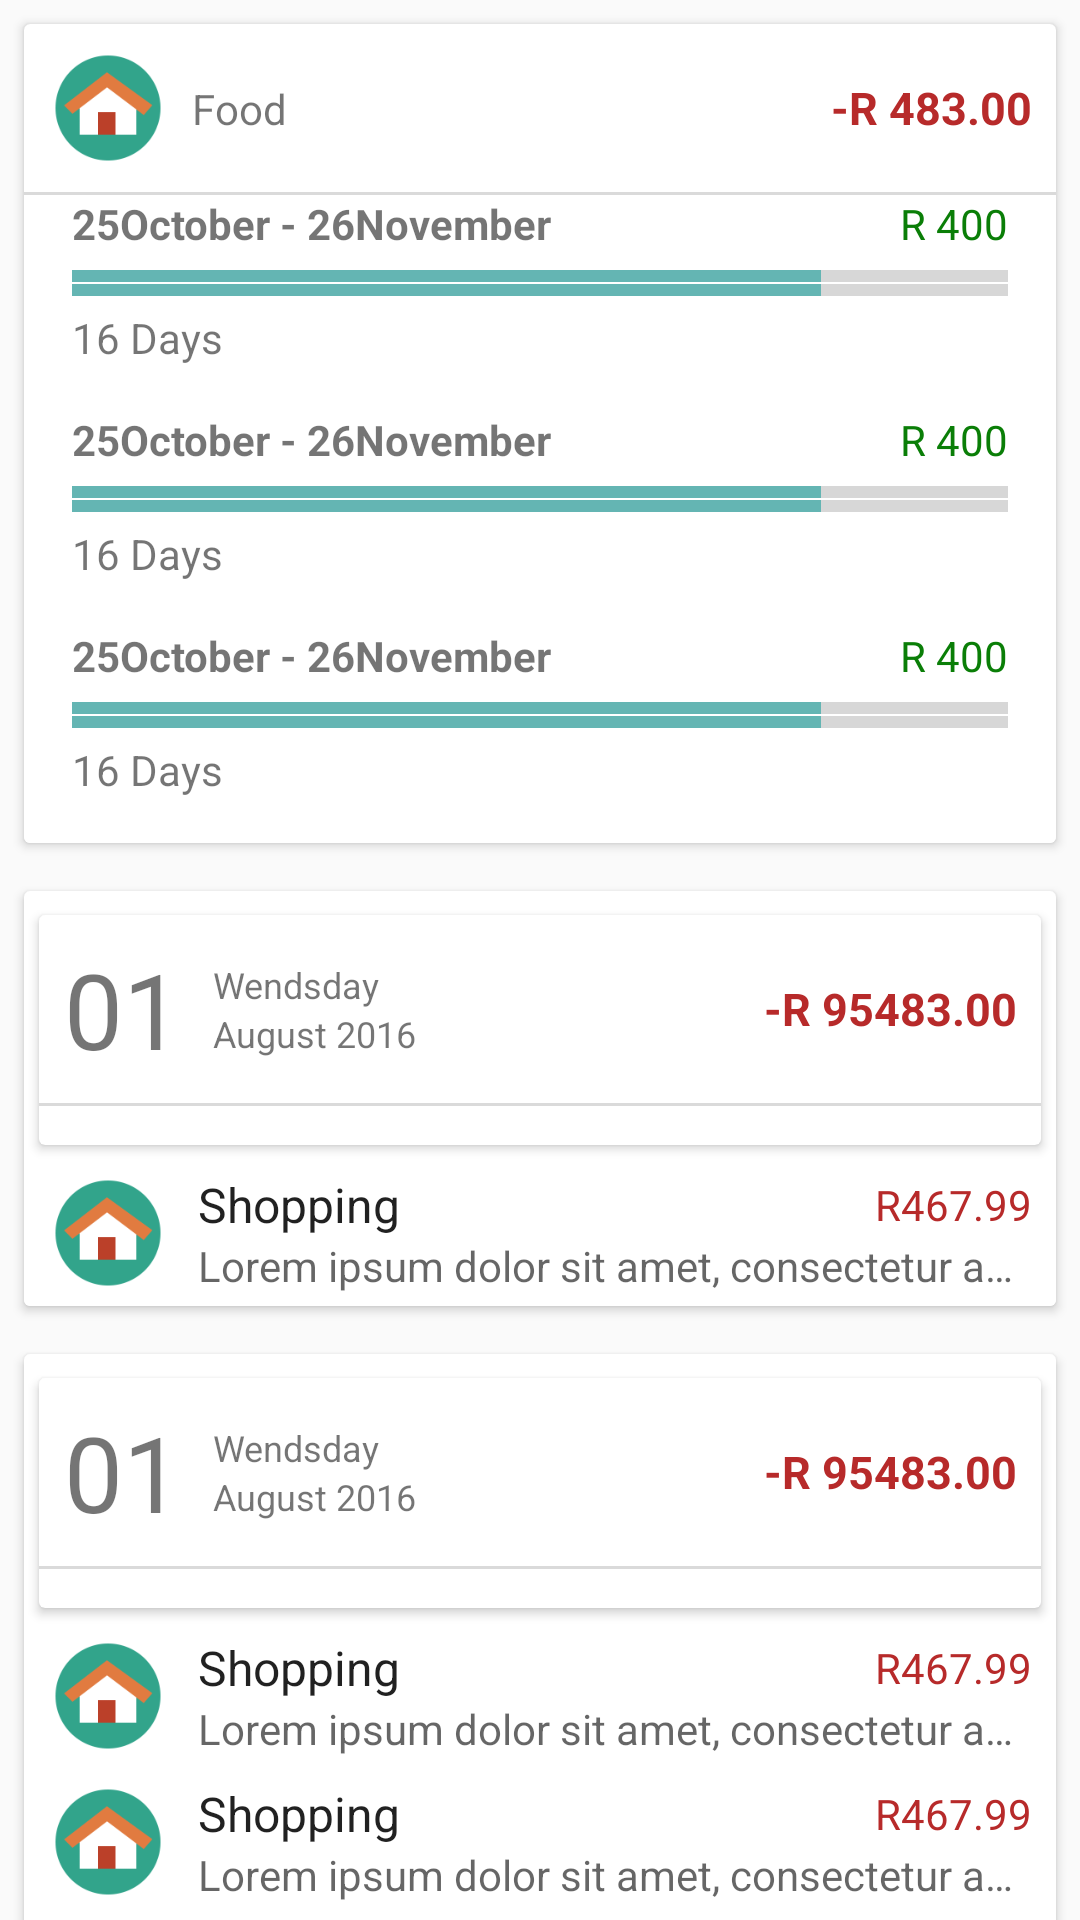

Where to tap for icons on this 1080x1920 app screen, as (x,y):
category family: (108,108), (108,1233), (108,1696), (108,1842)
